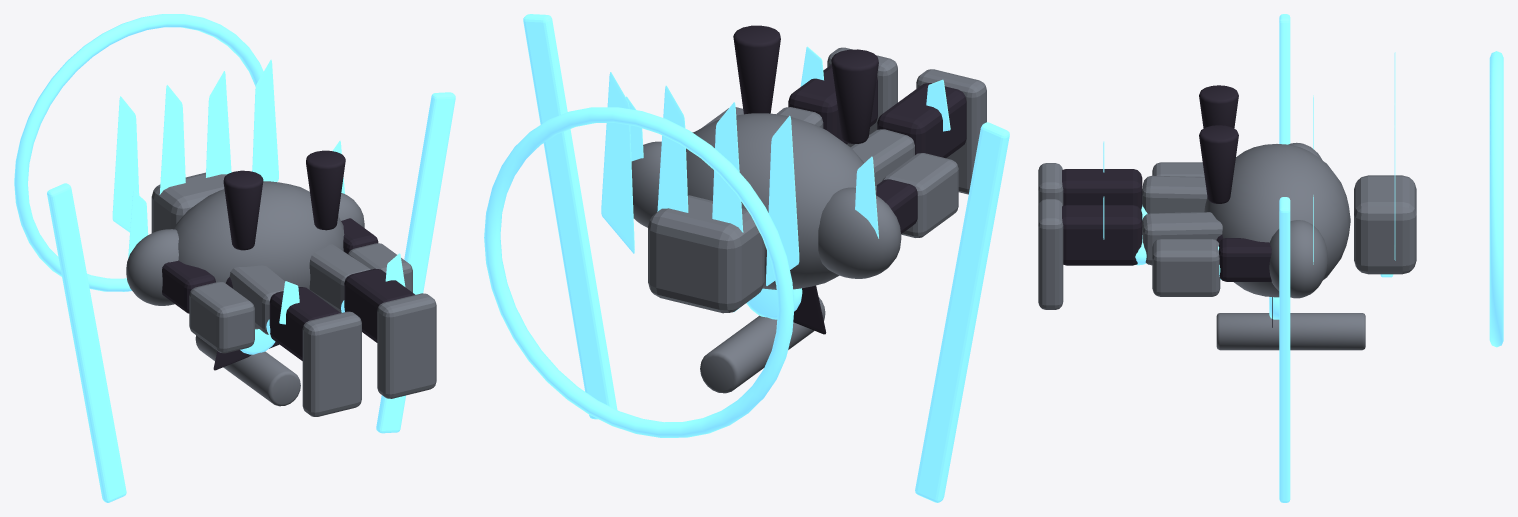
Rendered from boss_blade_enemy.glb.
3 renders of one model, left to right at view 1: azimuth 30°, elevation 25°; view 2: azimuth 150°, elevation 25°; view 3: azimuth 270°, elevation 25°, orthographic. The views are drawn at different scales.
Parts seen in each view (by area): view 1: torso, boss-greatblade-1, boss-halo, foot, foot.001, boss-greatblade1, forearm, shoulder-shell, enemy-cannon, boss-banner0, lower-leg.001, enemy-thruster.001 (+14 smaller); view 2: boss-halo, boss-greatblade-1, boss-greatblade1, torso, head, shoulder-shell, lower-leg, enemy-cannon, boss-banner3, forearm, enemy-thruster, enemy-thruster.001 (+14 smaller); view 3: torso, head, enemy-cannon, lower-leg.001, boss-halo, forearm.001, boss-greatblade1, shoulder-shell.001, lower-leg, foot.001, enemy-thruster.001, upper-leg (+6 smaller).
Part boxes in pixels (x1,y1,x2,y2): torso: (173, 181, 344, 329); boss-greatblade-1: (47, 183, 126, 502); boss-halo: (14, 14, 263, 291); foot: (302, 311, 361, 416); foot.001: (377, 293, 436, 398); boss-greatblade1: (376, 92, 455, 433); forearm: (189, 281, 254, 353); shoulder-shell: (126, 229, 178, 305); enemy-cannon: (195, 335, 300, 406); boss-banner0: (112, 96, 139, 232); lower-leg.001: (344, 268, 415, 342); enemy-thruster.001: (306, 150, 345, 230); boss-halo: (484, 107, 794, 437); boss-greatblade-1: (915, 122, 1009, 502); boss-greatblade1: (523, 14, 617, 419); torso: (686, 113, 876, 289); head: (648, 195, 764, 313); shoulder-shell: (818, 187, 901, 278); lower-leg: (877, 83, 966, 158); enemy-cannon: (700, 297, 825, 393); boss-banner3: (601, 72, 634, 253); forearm: (882, 153, 958, 237); enemy-thruster: (831, 49, 878, 144); enemy-thruster.001: (733, 25, 780, 114); torso: (1204, 144, 1350, 297); head: (1354, 175, 1416, 274); enemy-cannon: (1216, 313, 1365, 350); lower-leg.001: (1062, 205, 1142, 265); boss-halo: (1489, 51, 1503, 347); forearm.001: (1152, 239, 1220, 296); boss-greatblade1: (1279, 197, 1290, 502); shoulder-shell.001: (1269, 220, 1328, 298); lower-leg: (1062, 169, 1142, 209); foot.001: (1038, 199, 1063, 309); enemy-thruster.001: (1199, 125, 1238, 203); upper-leg: (1142, 175, 1207, 213).
Size of the model in its own units: 4.88 by 4.27 by 4.9.
